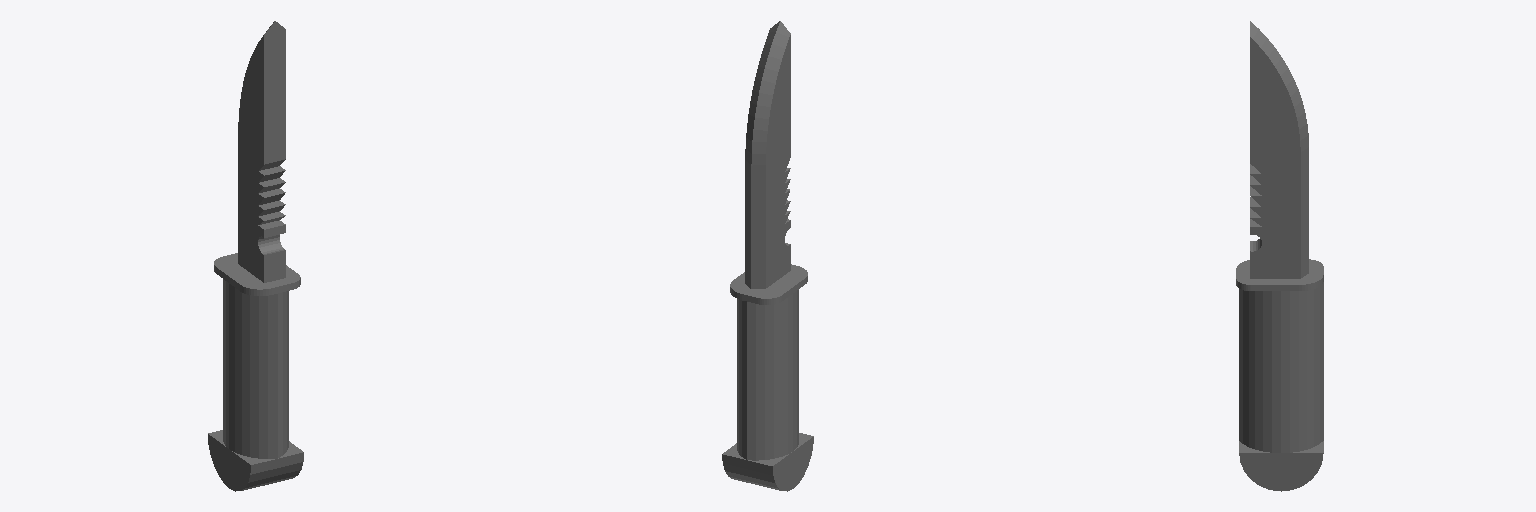
The robot description file, URDF, robot "object":
<?xml version="1.0"?>
<robot name="object">
  <link name="object">
    <visual>
      <origin xyz="0 0 0"/>
      <geometry>
        <mesh
          filename="../../mesh/oakink_virtual/knife_s106.stl" />
      </geometry>
      <material name="mat">
        <color rgba="0.5 0.5 0.5 1"/>
      </material>
    </visual>

    <collision>
      <origin xyz="0 0 0"/>
      <geometry>
        <mesh
          filename="../../mesh/oakink_virtual/knife_s106.stl" />
      </geometry>
    </collision>
  </link>
</robot>

--- Facts derived from the render (not from the file) ---
Views: 3 orthographic renders of the robot side by side, from view 1: azimuth 30°, elevation 25°; view 2: azimuth 150°, elevation 25°; view 3: azimuth 270°, elevation 25°.
Model object with 1 links and 0 joints (none), rooted at object, posed every joint at zero.
Visible links, largest first — view 1: object; view 2: object; view 3: object.
Link boxes in pixels (box(x1,y1,x2,y2)): object: box(208, 21, 303, 491); object: box(722, 21, 813, 491); object: box(1236, 21, 1323, 491).
Bounding box of the posed robot: 0.0245 × 0.0348 × 0.2027 m (x, y, z).
1 mesh visuals loaded from 1 distinct referenced files (1 binary STL).
